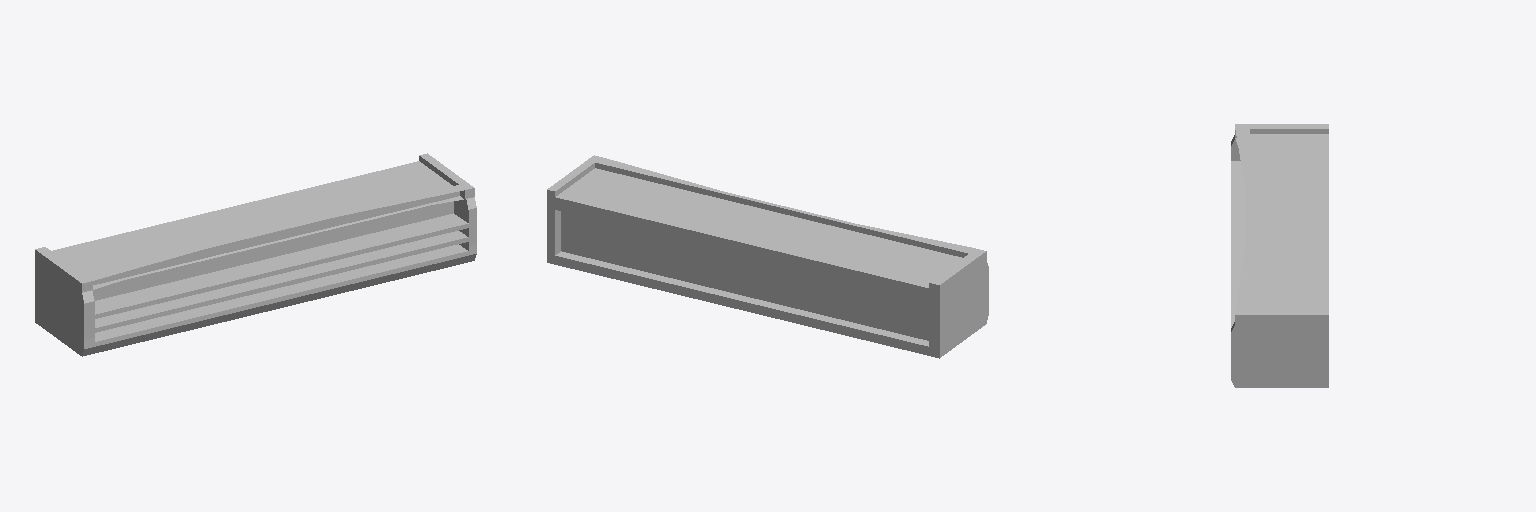
Rendered from CounterShelf.obj.
The picture shows the model from 3 angles: view 1: azimuth 30°, elevation 25°; view 2: azimuth 150°, elevation 25°; view 3: azimuth 270°, elevation 25°; orthographic projection.
Visible parts, largest first — view 1: Cube; view 2: Cube; view 3: Cube.
Part boxes in pixels (bbox=[...]): Cube: bbox=[35, 153, 476, 356]; Cube: bbox=[547, 155, 988, 358]; Cube: bbox=[1231, 124, 1328, 387].
Bounding box in the file's own units: 7.92 × 1.41 × 1.73.